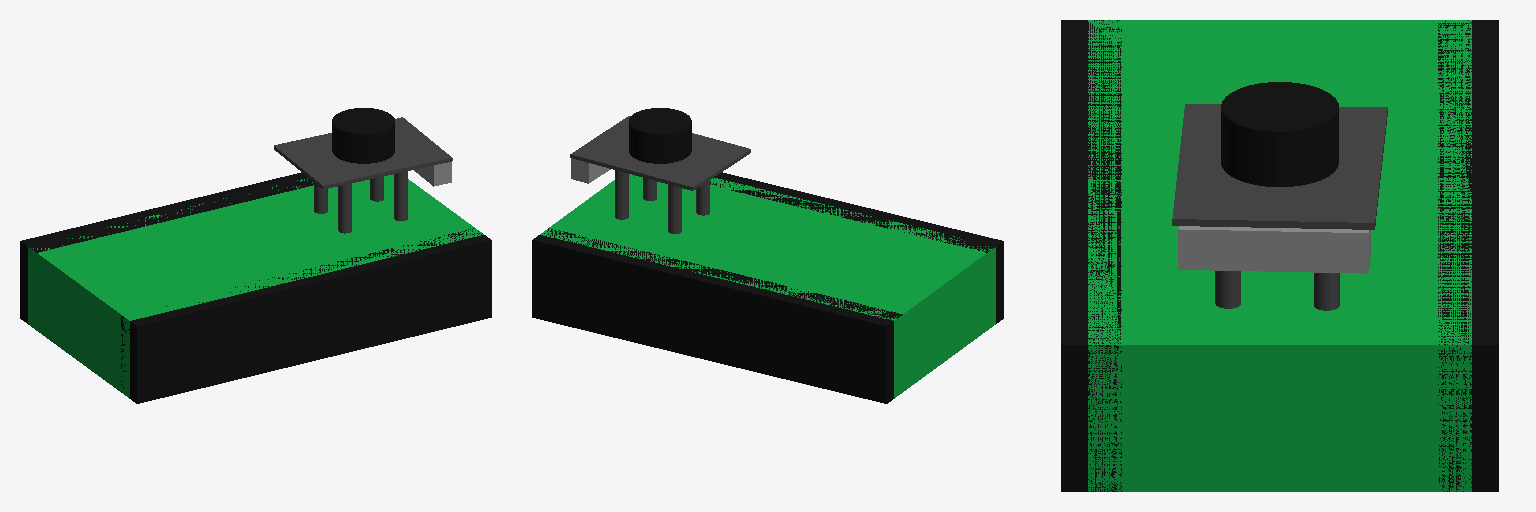
The robot description file, URDF, robot "jupiter_rover":
<?xml version="1.0" ?>
<!-- jupiter_rover — WT-600 강철 탱크 섀시 기준 전면 개정 (2026-08-27)
     근거:
     - 섀시: WT-600 강철, 자중 8.5kg, 트랙폭 40mm(캘리퍼 확인), 게이지 0.245m (실측 2026-08-27, 3법 수렴)
       ※ 리스팅 전폭 330mm는 트랙 가이드 포함(트랙 바깥끝 기준 실측 285mm) — 게이지 계산에 사용 금지
     - 휠 유효 구름 반경 0.02567m (실주행 캘리브레이션 2026-08-26, rover_platform.h)
       ※ 스프로킷 피치반경 0.0175 + 트랙 두께 ≈ 유효 0.0257로 정합
     - 데크 정적 기울기: 전고후저 3.5° 실측. 센서 데크(FUSED_ROVER)는 다리 경사보상으로 수평.
     - 센서 데크 장착: 데크 최전방(캐노피 X+88mm)이 로버 전방(x=+0.25)에서 10mm 후방, 폭 중앙
       → 데크 원점(라이다 중심) x = 0.25 − 0.010 − 0.088 = 0.152
     - 높이 실측(2026-08-27): 지면→상판(뒷다리 접점) 105mm, 지면→데크 판 190mm(상면 가정, ±5mm)
     - S2L: 스캔면 = 바닥 +20.8mm (데이터시트 p.17, RIG_MOUNT_SPEC.md)
     - D455f: camera_link = 좌IR이미저, M4면→이미저 (+0.022, +0.0475, 0) — y부호 도면 확정 대기
-->
<robot name="jupiter_rover">

  <material name="green">
    <color rgba="0.1 0.7 0.3 1.0"/>
  </material>
  <material name="black">
    <color rgba="0.1 0.1 0.1 1.0"/>
  </material>
  <material name="blue">
    <color rgba="0.1 0.3 0.9 1.0"/>
  </material>
  <material name="grey">
    <color rgba="0.6 0.6 0.6 1.0"/>
  </material>
  <material name="dark_grey">
    <color rgba="0.3 0.3 0.3 1.0"/>
  </material>

  <link name="base_footprint"/>

  <joint name="base_joint" type="fixed">
    <parent link="base_footprint"/>
    <child link="base_link"/>
    <!-- 유효 구름 반경 (실주행 캘리브레이션 2026-08-26) -->
    <origin xyz="0 0 0.02567" rpy="0 0 0"/>
  </joint>

  <!-- 차체: WT-600 본체 (트랙 제외 폭 330−2×40=250). 상판 지면高 ≈105mm(뒷다리 접점 실측) -->
  <link name="base_link">
    <visual>
      <origin xyz="0 0 0.027" rpy="0 0 0"/>
      <geometry>
        <box size="0.50 0.25 0.105"/>
      </geometry>
      <material name="green"/>
    </visual>
    <collision>
      <origin xyz="0 0 0.027" rpy="0 0 0"/>
      <geometry>
        <box size="0.50 0.25 0.105"/>
      </geometry>
    </collision>
    <inertial>
      <!-- 섀시 자중 8.5kg (탑재물 별도 — 총질량 실측 시 갱신) -->
      <mass value="8.5"/>
      <origin xyz="0 0 0.027" rpy="0 0 0"/>
      <inertia ixx="0.0521" ixy="0.0" ixz="0.0" iyy="0.1849" iyz="0.0" izz="0.2214"/>
    </inertial>
  </link>

  <link name="left_track">
    <visual>
      <origin xyz="0 0 0" rpy="0 0 0"/>
      <geometry>
        <box size="0.50 0.04 0.105"/>
      </geometry>
      <material name="black"/>
    </visual>
    <collision>
      <origin xyz="0 0 0" rpy="0 0 0"/>
      <geometry>
        <box size="0.50 0.04 0.105"/>
      </geometry>
    </collision>
    <inertial>
      <mass value="0.6"/>
      <origin xyz="0 0 0" rpy="0 0 0"/>
      <inertia ixx="0.00063" ixy="0.0" ixz="0.0" iyy="0.01305" iyz="0.0" izz="0.01258"/>
    </inertial>
  </link>

  <joint name="left_track_joint" type="continuous">
    <parent link="base_link"/>
    <child link="left_track"/>
    <origin xyz="0 0.1225 0.027" rpy="0 0 0"/>
    <axis xyz="0 1 0"/>
  </joint>

  <link name="right_track">
    <visual>
      <origin xyz="0 0 0" rpy="0 0 0"/>
      <geometry>
        <box size="0.50 0.04 0.105"/>
      </geometry>
      <material name="black"/>
    </visual>
    <collision>
      <origin xyz="0 0 0" rpy="0 0 0"/>
      <geometry>
        <box size="0.50 0.04 0.105"/>
      </geometry>
    </collision>
    <inertial>
      <mass value="0.6"/>
      <origin xyz="0 0 0" rpy="0 0 0"/>
      <inertia ixx="0.00063" ixy="0.0" ixz="0.0" iyy="0.01305" iyz="0.0" izz="0.01258"/>
    </inertial>
  </link>

  <joint name="right_track_joint" type="continuous">
    <parent link="base_link"/>
    <child link="right_track"/>
    <origin xyz="0 -0.1225 0.027" rpy="0 0 0"/>
    <axis xyz="0 1 0"/>
  </joint>

  <!-- 차체 데크 정적 기울기: 실측 3.5° 전고후저 — 데크에 평행 장착된 것(제어보드/IMU)에 적용.
       센서 데크(FUSED_ROVER)는 다리 경사보상 절삭으로 수평 → lidar/camera는 rpy 0. -->

  <!-- IMU (ICM-20948, ALOPS 보드 — 로버 상판에 장착 → 3.5° 기울기 상속.
       중력 x축 누설 ≈ 0.60 m/s². 보드 위치는 WT-600 상 실측 필요(현재 개략값).
       ⚠ 자이로 무반응 이슈(2026-08-26) — 융합 제외 중, D455f IMU로 대체 검토. -->
  <link name="imu_link"/>

  <joint name="imu_joint" type="fixed">
    <parent link="base_link"/>
    <child link="imu_link"/>
    <origin xyz="0 0 0.09" rpy="0 -0.0611 0"/>
  </joint>

  <!-- 센서 데크: lidar_deck_camera_FUSED_ROVER (3D 프린트, 경사보상 다리로 수평).
       원점 = 데크 모델 원점(라이다 마운트 중심, 판 하면 Z0). 판 하면 지면高 = 190−5 = 185mm
       → z = 0.185 − 0.02567 = 0.159. 시각화는 단순 형상(판+다리 4) — 정확 형상은
       rig_mount_v1/stand/stl/lidar_deck_camera_FUSED_ROVER.stl (mesh 사용 시 패키지에 복사 후
       <mesh filename="package://rover_description/meshes/..." scale="0.001 0.001 0.001"/>) -->
  <link name="sensor_deck_link">
    <visual>
      <!-- 판+캐노피+패드 개략 (모델 X −90..+88, Y ±66, 두께 5) -->
      <origin xyz="-0.001 0 0.0025" rpy="0 0 0"/>
      <geometry>
        <box size="0.178 0.132 0.005"/>
      </geometry>
      <material name="dark_grey"/>
    </visual>
    <visual>
      <origin xyz="0.035 0.032 -0.042" rpy="0 0 0"/>
      <geometry><cylinder radius="0.0085" length="0.084"/></geometry>
      <material name="dark_grey"/>
    </visual>
    <visual>
      <origin xyz="0.035 -0.032 -0.042" rpy="0 0 0"/>
      <geometry><cylinder radius="0.0085" length="0.084"/></geometry>
      <material name="dark_grey"/>
    </visual>
    <visual>
      <origin xyz="-0.042 0.032 -0.0445" rpy="0 0 0"/>
      <geometry><cylinder radius="0.0085" length="0.089"/></geometry>
      <material name="dark_grey"/>
    </visual>
    <visual>
      <origin xyz="-0.042 -0.032 -0.0445" rpy="0 0 0"/>
      <geometry><cylinder radius="0.0085" length="0.089"/></geometry>
      <material name="dark_grey"/>
    </visual>
  </link>

  <joint name="sensor_deck_joint" type="fixed">
    <parent link="base_link"/>
    <child link="sensor_deck_link"/>
    <!-- ★ 2026-09-18 데크 yaw −2.68° (−0.04677 rad): 데크(라이다+카메라)가 차체 진행 방향보다 시계방향으로 틀어져 있음.
         근거 ① 주행 bag(mp9~12) SLAM 게걸음 각 +2.69° — 회전 방향·곡률·heading 과 무관하게 일정(debug_log 2026-09-18 §9)
              ② 정지: 오른쪽 옆면을 벽에 붙인 상태에서 라이다가 벽을 +2.667°/+2.686°, 카메라가 +2.94° 로 봄(같은 벽).
         회전 중심은 데크 원점(=라이다 중심)으로 가정 — 실제 고정점이 다르면 라이다 위치가 수 mm 달라질 수 있다(무시). -->
    <origin xyz="0.152 0.0 0.159" rpy="0 0 -0.04677"/>
  </joint>

  <!-- LiDAR: RPLidar S2L, lidar_deck_camera_FUSED_ROVER 데크 상면(지면高 190mm 실측)에 장착.
       lidar_link 원점 = 스캔면 중심 = 데크 상면 +20.8mm (데이터시트 확정).
       z = (0.190 + 0.0208) − 0.02567 = 0.185. 데크 수평(경사보상 다리) → rpy 0. -->
  <link name="lidar_link">
    <visual>
      <origin xyz="0 0 0" rpy="0 0 0"/>
      <geometry>
        <cylinder radius="0.0385" length="0.0398"/>
      </geometry>
      <material name="black"/>
    </visual>
  </link>

  <joint name="lidar_joint" type="fixed">
    <parent link="base_link"/>
    <child link="lidar_link"/>
    <!-- lidar_yaw = π 확정 (2026-08-28, 좌측325mm·정면800mm 명확 배치 job6n/6o).
         /scan은 ROS 오른손계 일치(angle_increment>0, 좌측-정면=+82°≈+90° 방향보존 → 거울 아님, inverted 불필요).
         원시: 정면벽 raw−168°, 좌측벽 raw−86°. yaw=π 적용 시 base_link: 정면벽 +11°(정면+x)·좌측벽 +94°(좌측+y) 검증.
         물리 라이다는 왼손(CW)이나 rplidar_ros 드라이버가 오른손 메시지로 변환함. RPLidar 하드웨어 0°=로버 후방 → π 회전.
         (Foxglove 반전 관찰은 stale tf_static 캐시 — yaw 변경 이력 중 예전 yaw=0을 클라이언트가 쥠. 새로고침으로 해소.) -->
    <!-- ★ 2026-09-18: π → π − 0.04677 (= 3.09482). 위 sensor_deck_joint 의 데크 yaw −2.68° 반영. 08-28 확정은 방향(π, 앞뒤)만이었고
         미세 yaw 는 재지 않았다(당시 기록: 정면벽 +11° 로 보였음). stuck_monitor.py LIDAR_YAW 와 한 쌍. -->
    <origin xyz="0.152 0.0 0.185" rpy="0 0 3.09482"/>
  </joint>

  <!-- 카메라: RealSense D455f, 데크 일체형 벽(전면 = 데크원점 X+58mm)에 2×M4(±47.5) 체결.
       camera_link = 좌IR이미저: 데크원점 기준 X = 58+22 = 80mm → x = 0.152+0.080 = 0.232.
       z = (0.190 − 0.005(데크두께) − 0.0165(축)) − 0.02567 = 0.143.
       y = +0.0475 (M4면→좌이미저, ⚠ 부호는 도면 337029-017 확정 대기 — RViz 정합으로 검증).
       realsense2_camera가 camera_link→optical/imu 내부 TF 자동 발행. -->
  <link name="camera_link">
    <visual>
      <!-- 몸체(124×26×29)를 이미저 기준에서 중앙 정렬로 표시 -->
      <origin xyz="-0.003 -0.0475 0" rpy="0 0 0"/>
      <geometry>
        <box size="0.026 0.124 0.029"/>
      </geometry>
      <material name="grey"/>
    </visual>
  </link>

  <joint name="camera_joint" type="fixed">
    <parent link="base_link"/>
    <child link="camera_link"/>
    <!-- ★ 2026-09-18: 데크 yaw −2.68° 반영 — 방향 rpy yaw −0.04677, 위치는 데크 원점 기준 오프셋 (0.080, 0.0475) 을 같이 회전
         → (0.08213, 0.04371) + (0.152, 0) = (0.23413, 0.04371). 이전 (0.232, 0.0475, yaw 0). 카메라 단독 측정 +2.94° 는 라이다와 0.25° 차 — 측정 오차 범위라 데크 공통값 사용. -->
    <origin xyz="0.23413 0.04371 0.143" rpy="0 0 -0.04677"/>
  </joint>

<gazebo>
    <plugin name="diff_drive" filename="libgazebo_ros_diff_drive.so">
      <ros>
        <namespace>/</namespace>
        <remapping>cmd_vel:=cmd_vel</remapping>
        <remapping>odom:=odom</remapping>
      </ros>

      <update_rate>30</update_rate>

      <left_joint>left_track_joint</left_joint>
      <right_joint>right_track_joint</right_joint>

      <!-- WT-600 게이지 실측 0.245m (2026-08-27, 3법 수렴: 285−40 / 205+40 / 중심간 ~248.
           리스팅 전폭 330은 트랙 가이드 포함 — 계산치 0.29 폐기. 회전보정으로 유효값 최종 확정) -->
      <wheel_separation>0.245</wheel_separation>
      <!-- 유효 구름 반경 (실주행 캘리브레이션 2026-08-26) -->
      <wheel_radius>0.02567</wheel_radius>

      <max_wheel_torque>2.0</max_wheel_torque>
      <max_wheel_acceleration>1.0</max_wheel_acceleration>

      <publish_odom>true</publish_odom>
      <publish_odom_tf>true</publish_odom_tf>
      <publish_wheel_tf>false</publish_wheel_tf>

      <odometry_frame>odom</odometry_frame>
      <robot_base_frame>base_footprint</robot_base_frame>
    </plugin>
  </gazebo>

</robot>

--- Facts derived from the render (not from the file) ---
3 views of the same robot in one strip: view 1: azimuth 30°, elevation 25°; view 2: azimuth 150°, elevation 25°; view 3: azimuth 270°, elevation 25° (orthographic).
Model jupiter_rover with 8 links and 7 joints (2 continuous, 5 fixed), rooted at base_footprint, posed every joint at zero.
Links seen in each view (by area): view 1: base_link, right_track, sensor_deck_link, left_track, lidar_link, camera_link; view 2: base_link, left_track, sensor_deck_link, right_track, lidar_link, camera_link; view 3: base_link, right_track, left_track, sensor_deck_link, lidar_link, camera_link.
Boxes of the visible links, left/top/right/bottom form: base_link: left=28, top=174, right=483, bottom=398; right_track: left=121, top=228, right=491, bottom=403; sensor_deck_link: left=274, top=117, right=452, bottom=233; left_track: left=20, top=172, right=313, bottom=323; lidar_link: left=332, top=108, right=394, bottom=163; camera_link: left=414, top=162, right=451, bottom=186; base_link: left=540, top=174, right=995, bottom=398; left_track: left=532, top=228, right=902, bottom=403; sensor_deck_link: left=570, top=116, right=750, bottom=233; right_track: left=710, top=172, right=1003, bottom=323; lidar_link: left=629, top=108, right=691, bottom=163; camera_link: left=571, top=158, right=610, bottom=183; base_link: left=1088, top=20, right=1471, bottom=491; right_track: left=1061, top=20, right=1121, bottom=491; left_track: left=1438, top=20, right=1498, bottom=491; sensor_deck_link: left=1172, top=104, right=1387, bottom=310; lidar_link: left=1221, top=82, right=1338, bottom=186; camera_link: left=1178, top=226, right=1370, bottom=273.
Bounding box of the posed robot: 0.5 × 0.285 × 0.2304 m (x, y, z).
Geometry: primitives only (box / cylinder / sphere), no mesh files.
